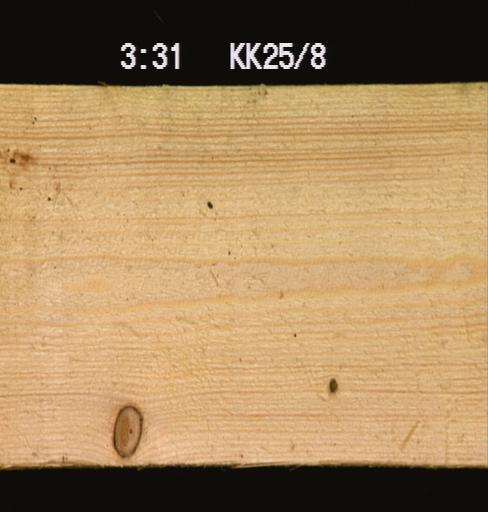dry_knot: (111, 403, 143, 458)
small_knot: (326, 376, 337, 394)
